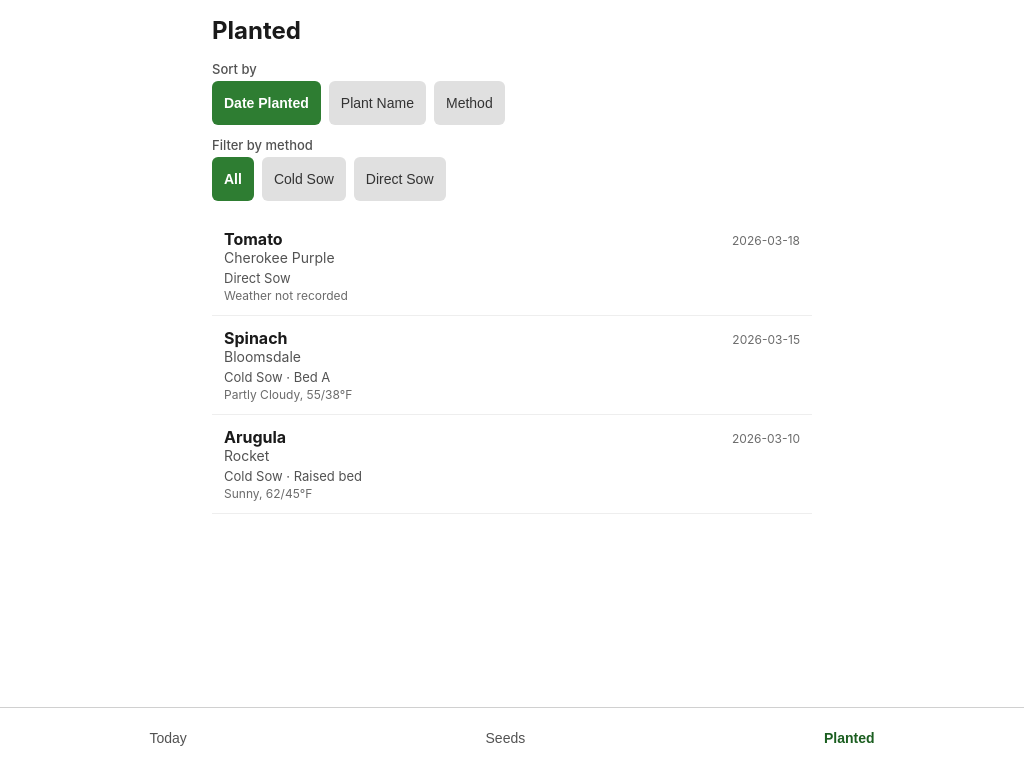
Test: Planted page › filters by cold sow
Note: Click "Cold Sow" filter
What coordinates should you click on to do the following:
click the button "Cold Sow"
I would click on:
 (304, 179)
Its box is [262,157,346,201].
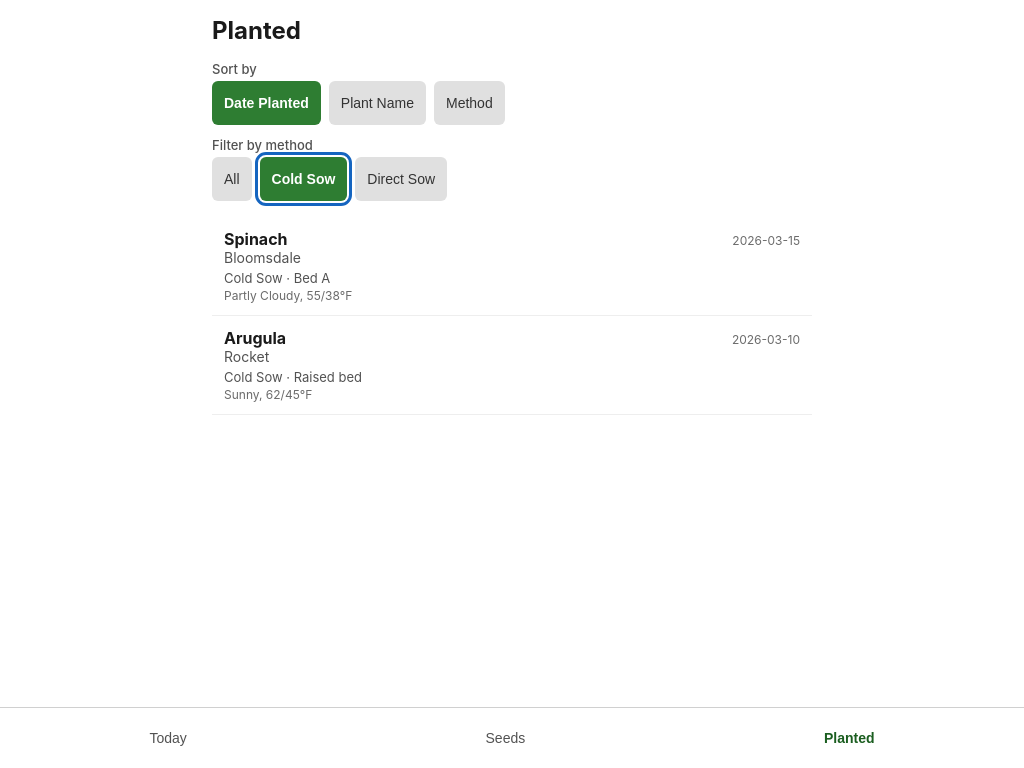
Expected: the text "Spinach" is shown, [224,229,288,249]
Expected: the number of list items is 2, [212,217,812,316]; [212,316,812,415]
Expected: the text "Tomato" is gone
